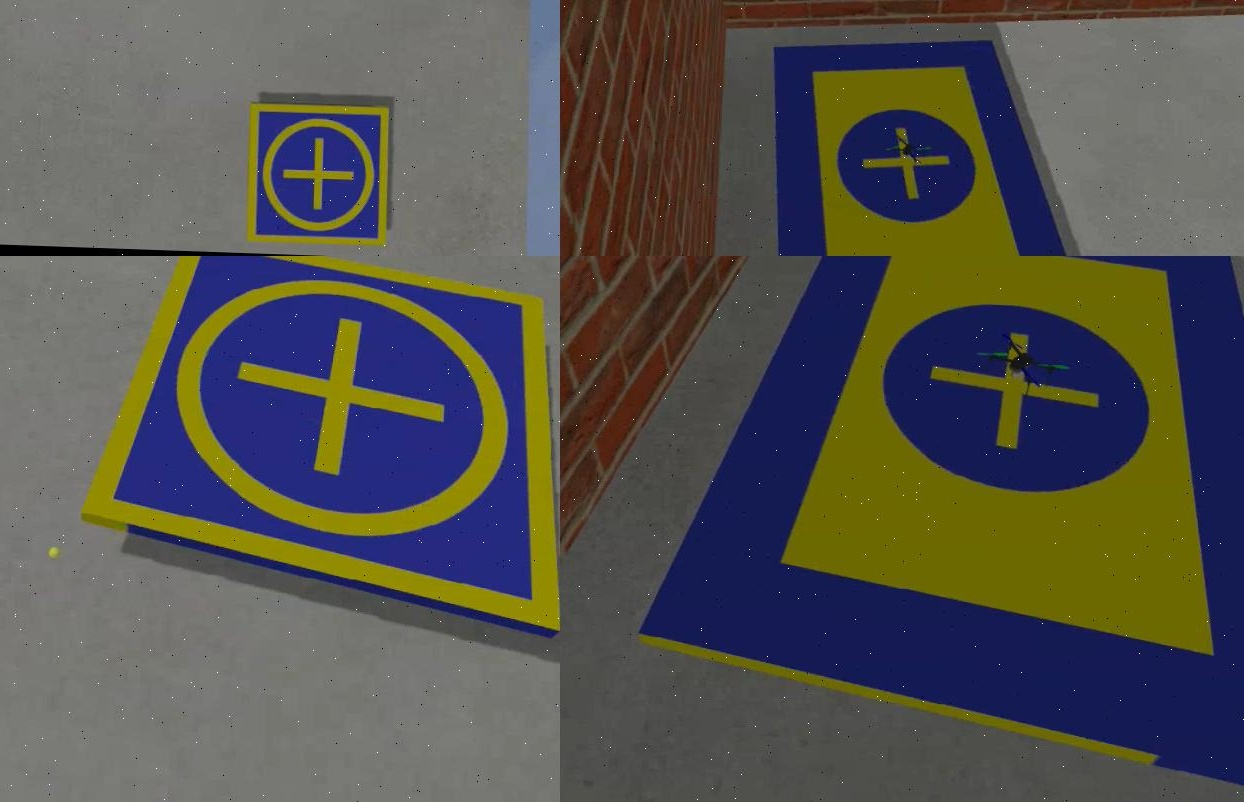large_base: (633, 256, 1242, 802), (764, 30, 1098, 256)
small_base: (74, 256, 559, 640), (242, 102, 391, 249)
